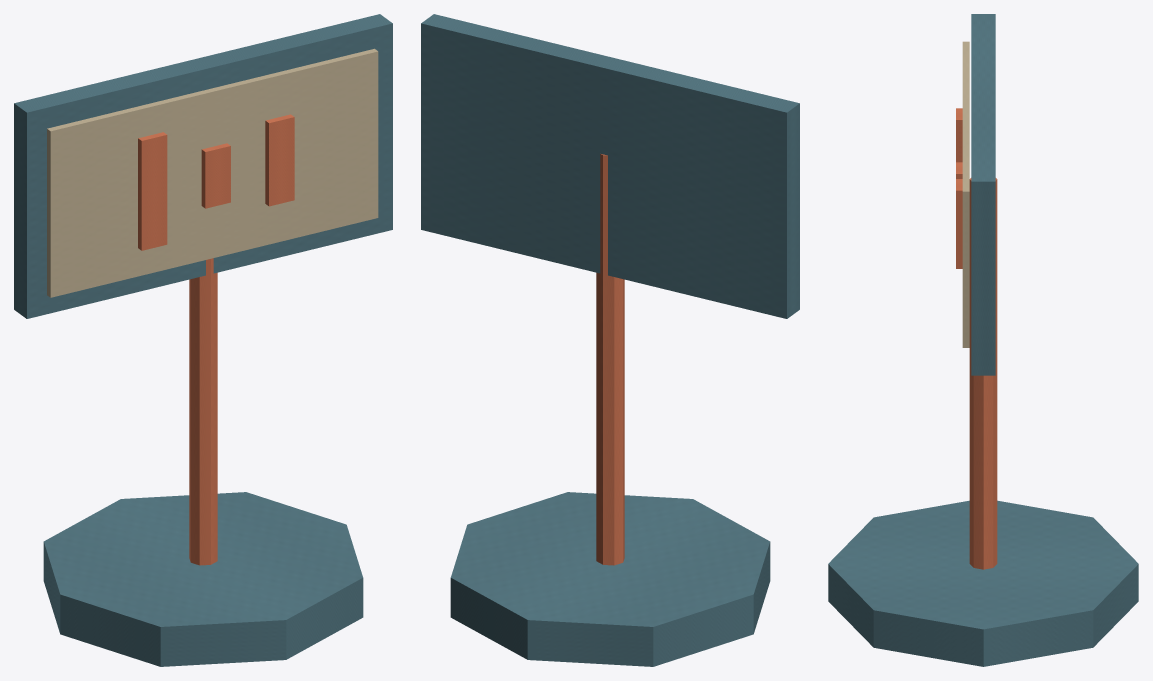
File: atlas100-s041-a11.glb
3 renders of one model, left to right at view 1: azimuth 30°, elevation 25°; view 2: azimuth 150°, elevation 25°; view 3: azimuth 270°, elevation 25°, orthographic. The views are drawn at different scales.
Parts seen in each view (by area): view 1: atlas100-s041-a11:part-003, atlas100-s041-a11:part-000, atlas100-s041-a11:part-002, atlas100-s041-a11:part-001, atlas100-s041-a11:part-004, atlas100-s041-a11:part-006, atlas100-s041-a11:part-005; view 2: atlas100-s041-a11:part-002, atlas100-s041-a11:part-000, atlas100-s041-a11:part-001; view 3: atlas100-s041-a11:part-000, atlas100-s041-a11:part-002, atlas100-s041-a11:part-001, atlas100-s041-a11:part-003, atlas100-s041-a11:part-006.
Part boxes in pixels (left/top/right/bottom): atlas100-s041-a11:part-003: left=47, top=48, right=378, bottom=297; atlas100-s041-a11:part-000: left=43, top=492, right=363, bottom=666; atlas100-s041-a11:part-002: left=14, top=14, right=392, bottom=318; atlas100-s041-a11:part-001: left=189, top=258, right=217, bottom=565; atlas100-s041-a11:part-004: left=138, top=132, right=167, bottom=250; atlas100-s041-a11:part-006: left=265, top=114, right=294, bottom=206; atlas100-s041-a11:part-005: left=201, top=143, right=230, bottom=208; atlas100-s041-a11:part-002: left=421, top=14, right=799, bottom=318; atlas100-s041-a11:part-000: left=450, top=492, right=770, bottom=666; atlas100-s041-a11:part-001: left=596, top=154, right=624, bottom=565; atlas100-s041-a11:part-000: left=828, top=500, right=1138, bottom=666; atlas100-s041-a11:part-002: left=971, top=14, right=995, bottom=375; atlas100-s041-a11:part-001: left=969, top=178, right=997, bottom=569; atlas100-s041-a11:part-003: left=962, top=41, right=969, bottom=347; atlas100-s041-a11:part-006: left=956, top=179, right=962, bottom=268.
Bounding box in the file's own units: 1.15 × 1.61 × 0.9.
3 materials, 3 textured.
